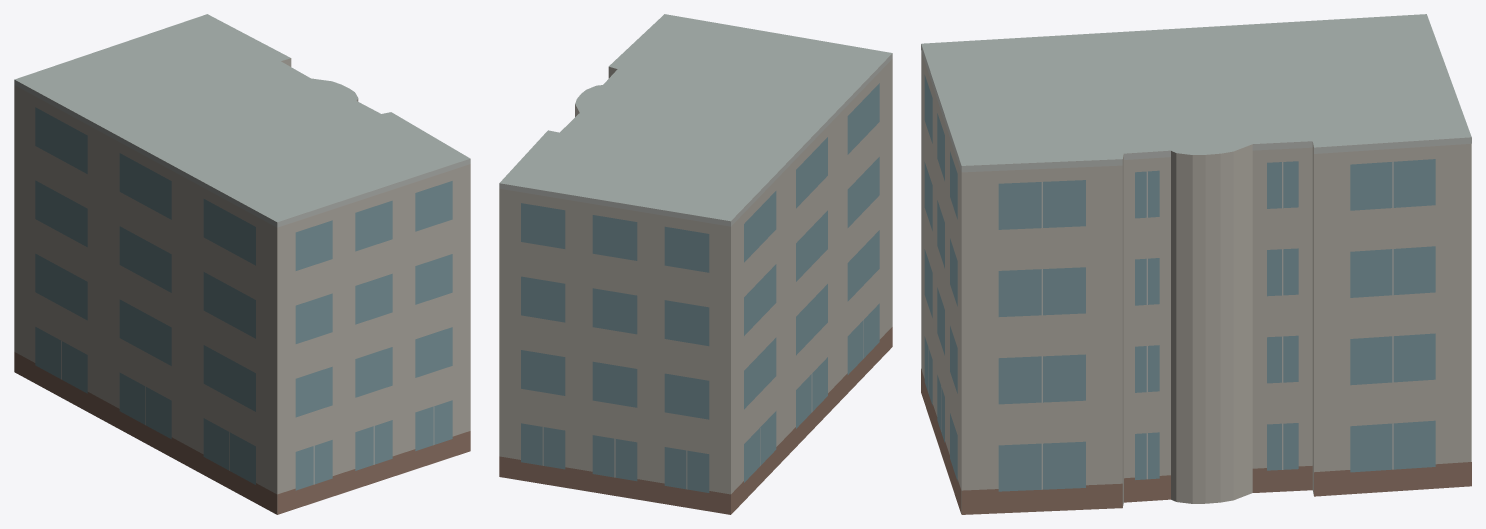
Rendered from survey-upis-32906497.glb.
3 views of the same model, side by side, from view 1: azimuth 30°, elevation 25°; view 2: azimuth 150°, elevation 25°; view 3: azimuth 270°, elevation 25° (orthographic). The views are drawn at different scales.
Parts seen in each view (by area): view 1: survey-upis-32906497.tmp; view 2: survey-upis-32906497.tmp; view 3: survey-upis-32906497.tmp.
Boxes of the visible parts, x1,y1,x2,y2 form: survey-upis-32906497.tmp: (14, 14, 470, 514); survey-upis-32906497.tmp: (499, 14, 892, 514); survey-upis-32906497.tmp: (921, 14, 1471, 514).
Size of the model in its own units: 12.34 by 13.2 by 18.89.
